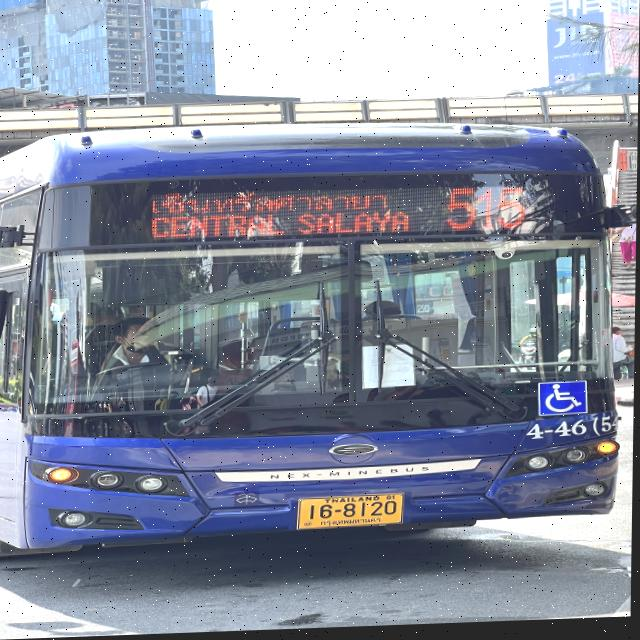Bus-Line-Number: (424, 177, 542, 239)
Destination-Sign-Normal: (139, 181, 417, 246)
TSB-Bus: (0, 118, 625, 560)
